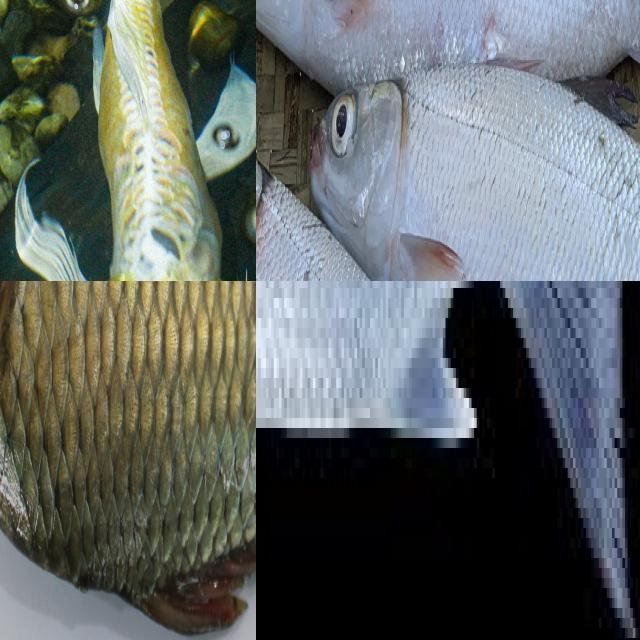fish: (256, 281, 640, 640), (0, 281, 256, 640), (0, 0, 256, 281)
